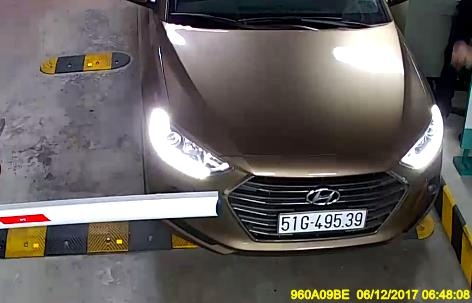plate: (277, 206, 367, 236)
